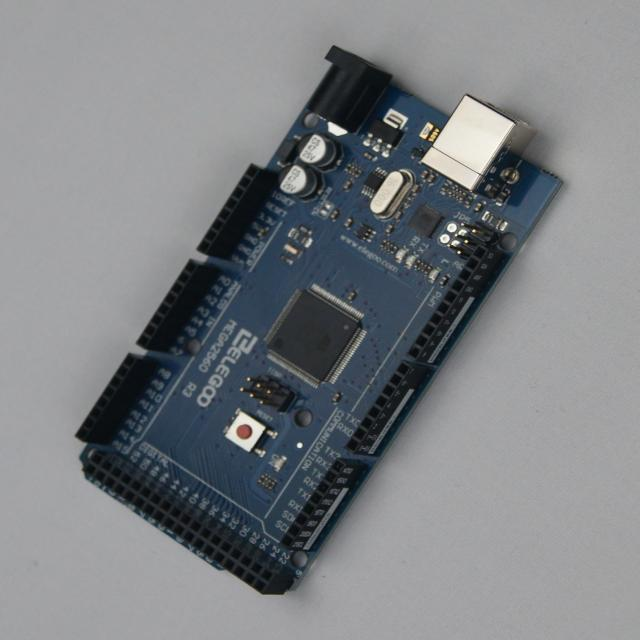Arduino Mega 2560 -Blue-: (77, 47, 561, 595)
